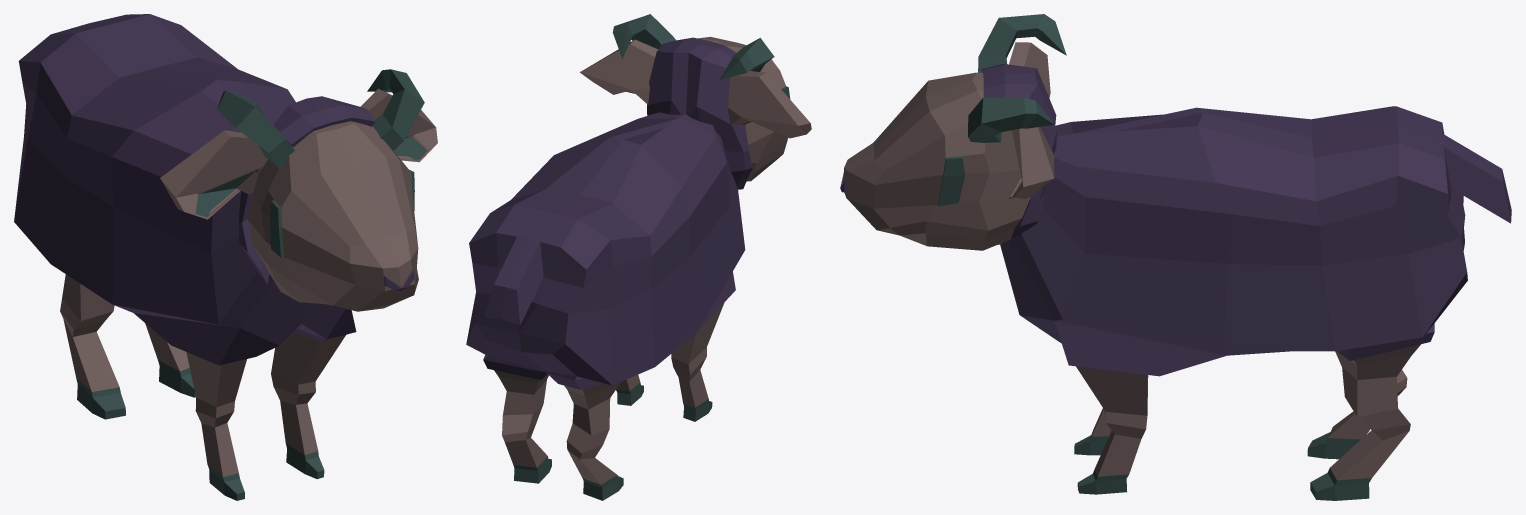
File: Ram.fbx
The picture shows the model from 3 angles, left to right: view 1: azimuth 30°, elevation 25°; view 2: azimuth 150°, elevation 25°; view 3: azimuth 270°, elevation 25°; orthographic projection. The views are drawn at different scales.
Visible parts, largest first — view 1: Ram_1_Stand.002; view 2: Ram_1_Stand.002; view 3: Ram_1_Stand.002.
Part boxes in pixels (x1,y1,x2,y2): Ram_1_Stand.002: (14,14,437,500); Ram_1_Stand.002: (466,14,811,500); Ram_1_Stand.002: (840,14,1511,500).
Size of the model in its own units: 171 by 267 by 380.
